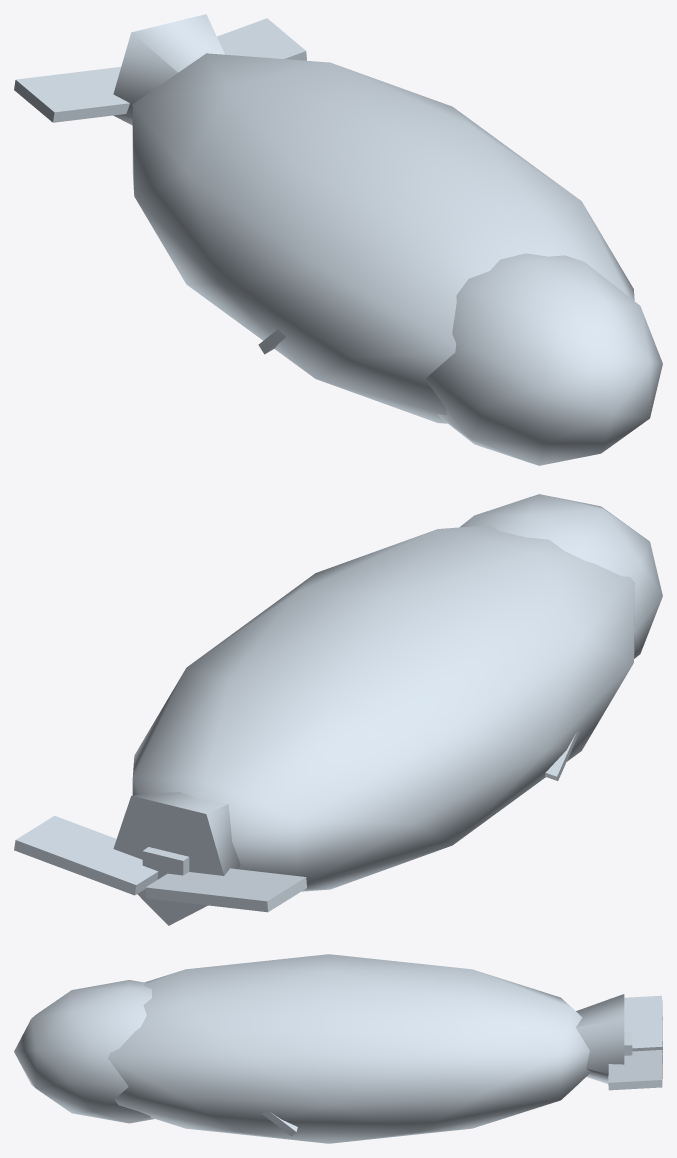
File: whale.glb
3 views of the same model, one above another, from view 1: azimuth 30°, elevation 25°; view 2: azimuth 150°, elevation 25°; view 3: azimuth 270°, elevation 25° (orthographic). The views are drawn at different scales.
Visible parts, largest first — view 1: body, head, tail_stem, left_fluke, right_fluke; view 2: body, head, tail_stem, right_fluke, left_fluke, tail_hub; view 3: body, head, tail_stem, left_fluke, right_fluke, right_pectoral.
Part boxes in pixels (x1,y1,x2,y2): body: [132, 53, 634, 423]; head: [425, 253, 662, 465]; tail_stem: [113, 14, 224, 125]; left_fluke: [14, 67, 129, 122]; right_fluke: [217, 18, 306, 60]; body: [132, 525, 635, 891]; head: [460, 494, 662, 658]; tail_stem: [113, 792, 240, 925]; right_fluke: [14, 815, 158, 895]; left_fluke: [145, 868, 306, 912]; tail_hub: [142, 847, 189, 879]; body: [108, 954, 590, 1143]; head: [14, 980, 154, 1123]; tail_stem: [575, 994, 624, 1083]; left_fluke: [608, 995, 662, 1053]; right_fluke: [608, 1050, 662, 1090]; right_pectoral: [261, 1111, 297, 1136].
Bounding box in the file's own units: 5.25 × 3.44 × 13.08.
